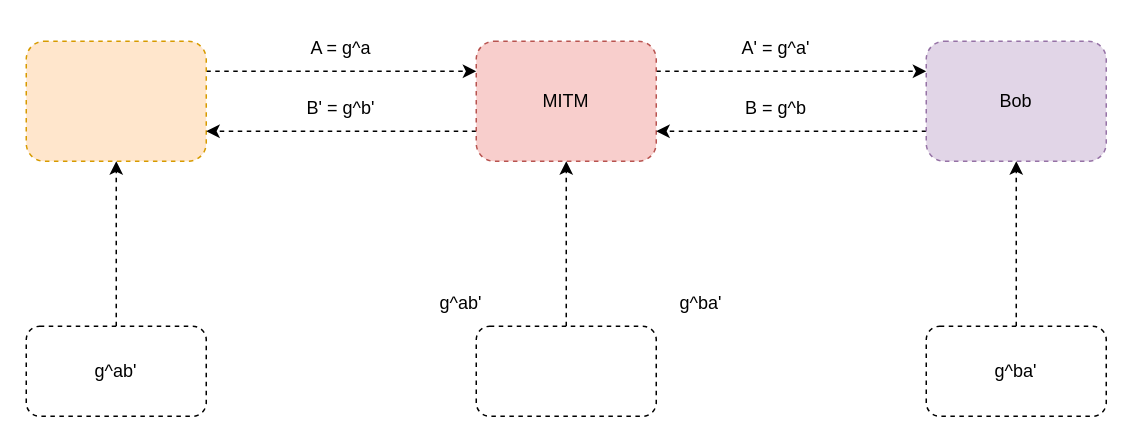
This 1133x443 diagram has some shape labels left out. Each missing label, with the centre of its shape:
Alice: (115,100)
He knows all the keys!: (565,370)
